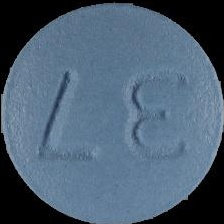68645-446: (0, 0, 224, 224)
